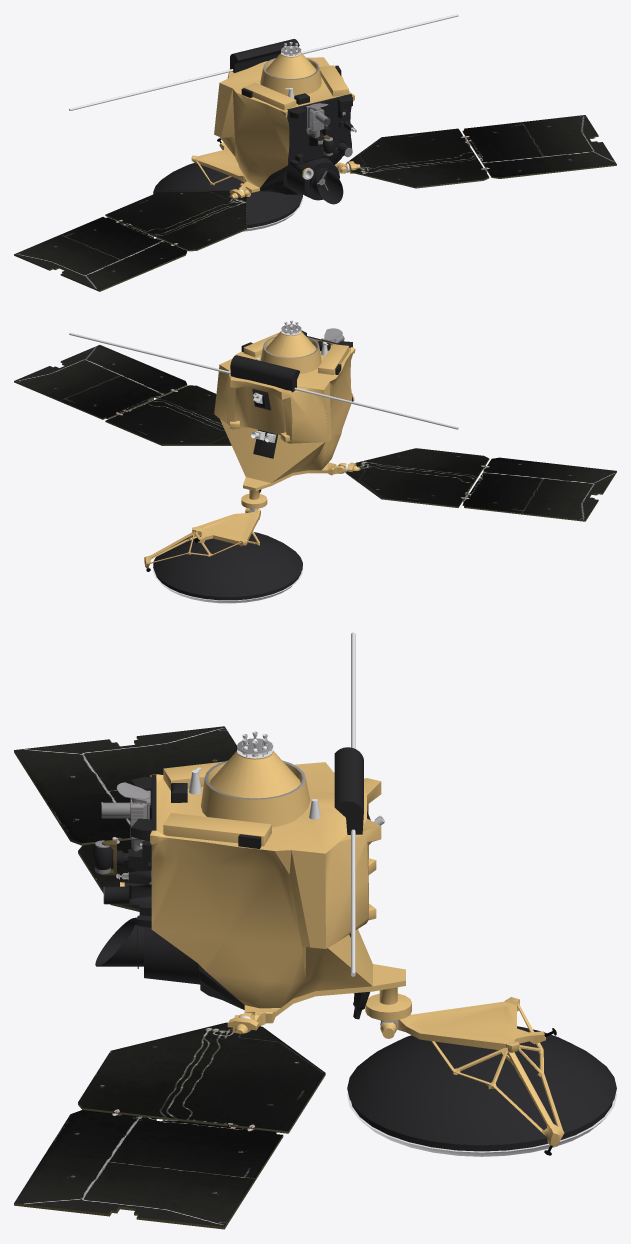
File: mro.glb
3 views of the same model, one above another, from view 1: azimuth 30°, elevation 25°; view 2: azimuth 150°, elevation 25°; view 3: azimuth 270°, elevation 25° (orthographic). The views are drawn at different scales.
Visible parts, largest first — view 1: shiny_panel, tex_02, foil_gold, black_krinkle, foil_silver; view 2: foil_gold, shiny_panel, tex_02, black_krinkle, foil_silver; view 3: foil_gold, shiny_panel, black_krinkle, tex_02, foil_silver.
Part boxes in pixels (box(x1,y1,x2,y2)): shiny_panel: box(14, 45, 616, 291); tex_02: box(106, 128, 488, 249); foil_gold: box(191, 52, 360, 198); black_krinkle: box(153, 39, 353, 228); foil_silver: box(69, 14, 458, 231); foil_gold: box(144, 331, 360, 568); shiny_panel: box(14, 324, 616, 571); tex_02: box(106, 385, 488, 506); black_krinkle: box(153, 330, 352, 600); foil_silver: box(69, 320, 458, 603); foil_gold: box(120, 748, 564, 1146); shiny_panel: box(14, 726, 556, 1229); black_krinkle: box(93, 747, 616, 1151); tex_02: box(78, 840, 325, 1131); foil_silver: box(189, 632, 616, 1156).
Bounding box in the file's own units: 13.6 × 5.03 × 6.92.
5 materials, 2 textured.
